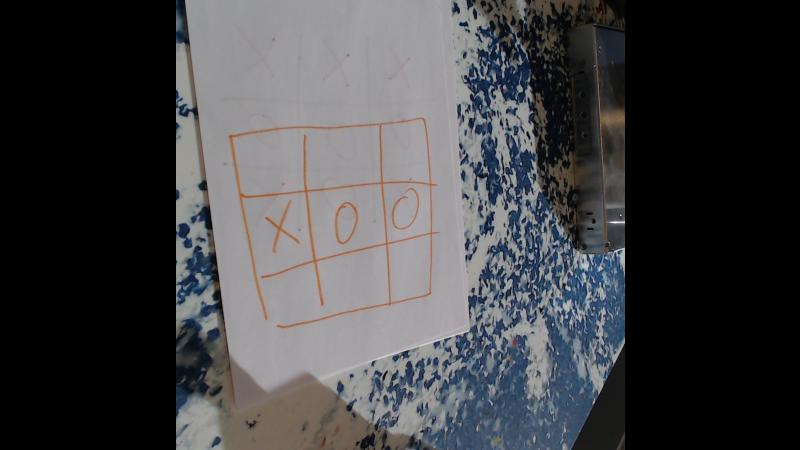O: (328, 194, 360, 248), (388, 188, 425, 234)
X: (255, 196, 297, 254)
grid: (235, 115, 431, 334)
